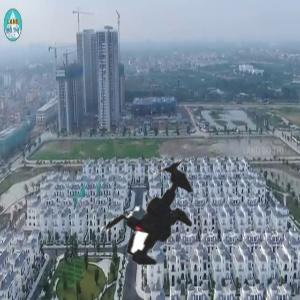drone: (68, 128, 235, 295)
